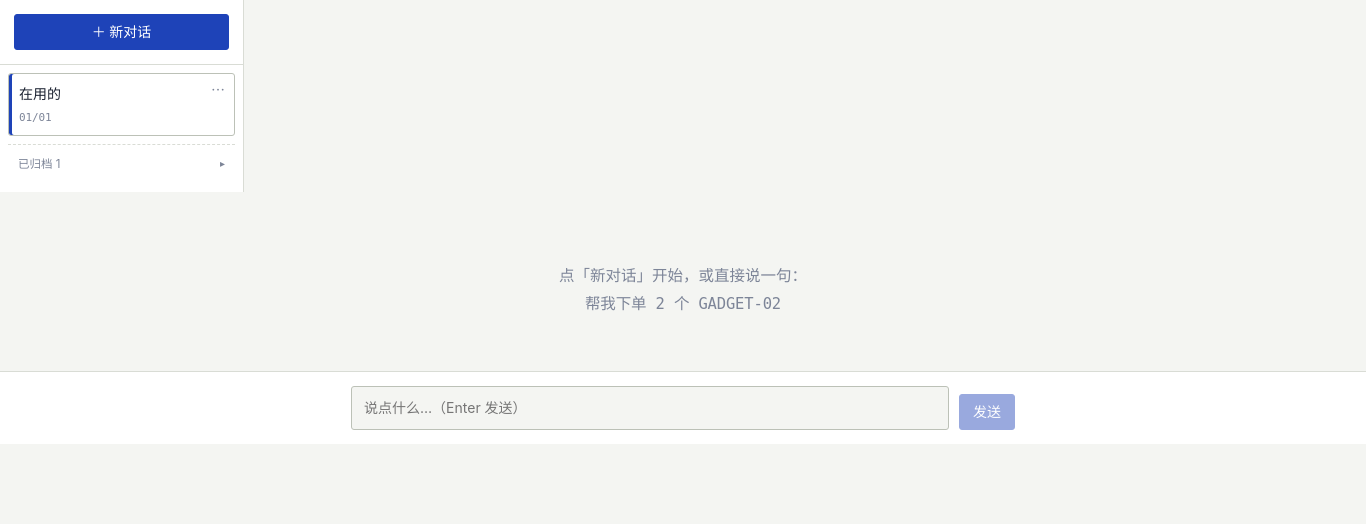
it: 归档与恢复 › 归档的会话收在底部折叠分组里，默认不展开
Expected: the text "压箱底的" is not shown
Click the button with class "archived-toggle". click: (122, 165)
box: [8, 149, 235, 180]
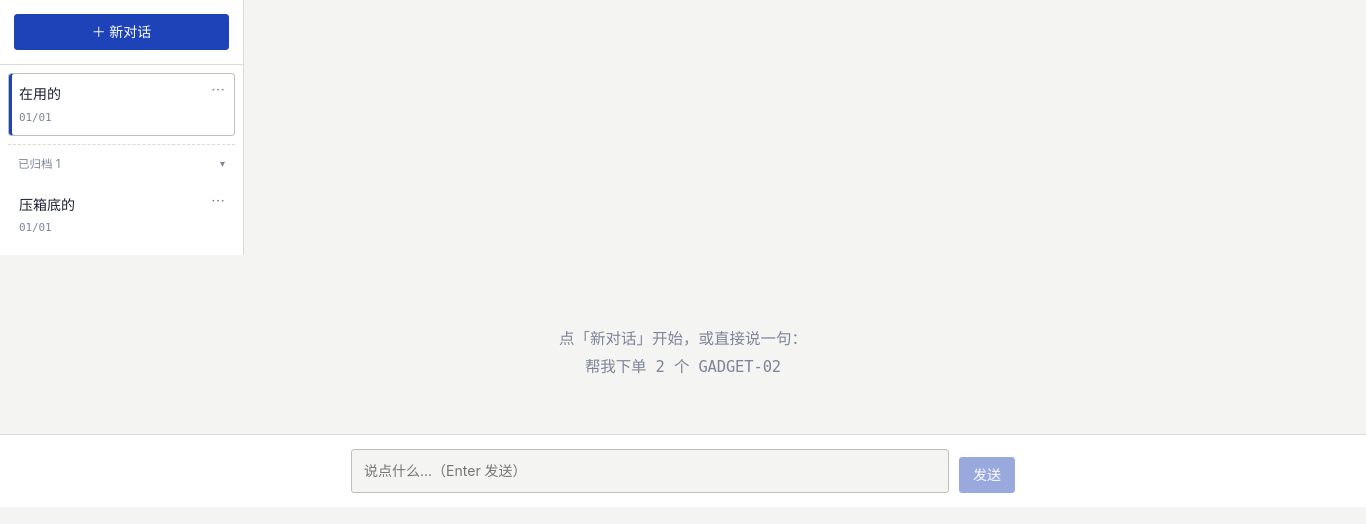
Expected: the text "压箱底的" is shown, [19, 196, 75, 213]
